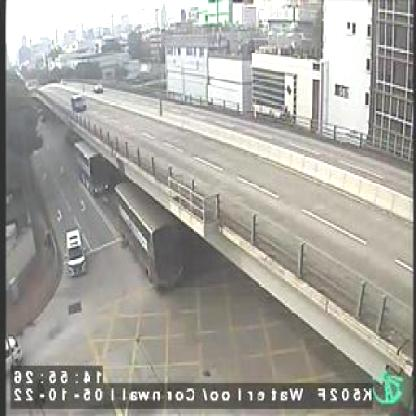Bus: (117, 184, 183, 284), (78, 142, 110, 194)
Car: (68, 227, 87, 279), (74, 94, 87, 111)
